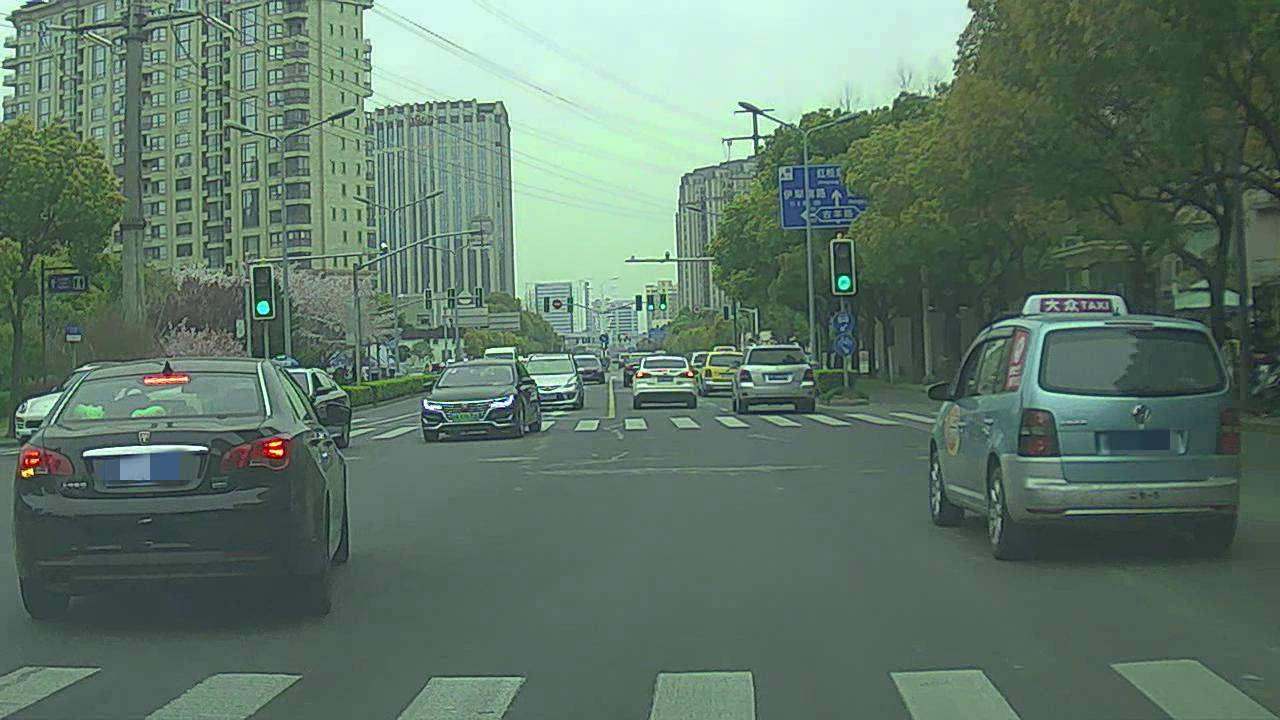traffic_light: (831, 237, 857, 290), (249, 266, 273, 322), (658, 291, 668, 311), (647, 294, 655, 312), (636, 293, 642, 314)
